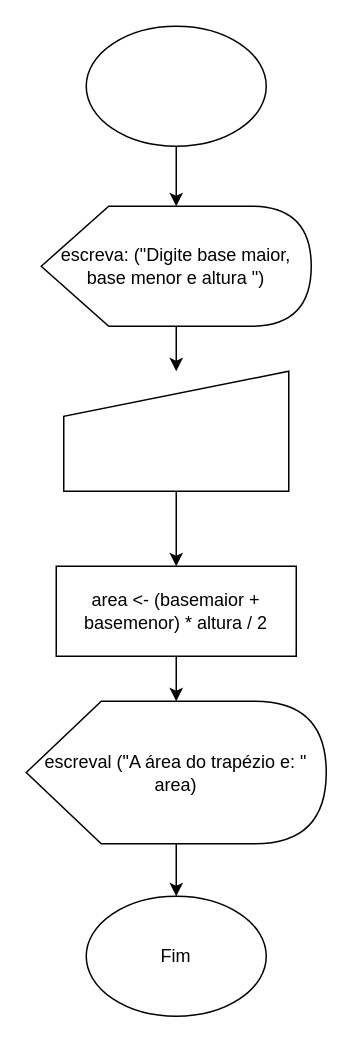
Some shapes in this 353 by 1043 pixel diagram are drawn without their labels. The shapes that lost their labels are listed below. From the top down, each one's centre as x and y in pixels, then its label:
point 175,85: Início
point 175,430: leia (basemaior, basemenor, altura)
